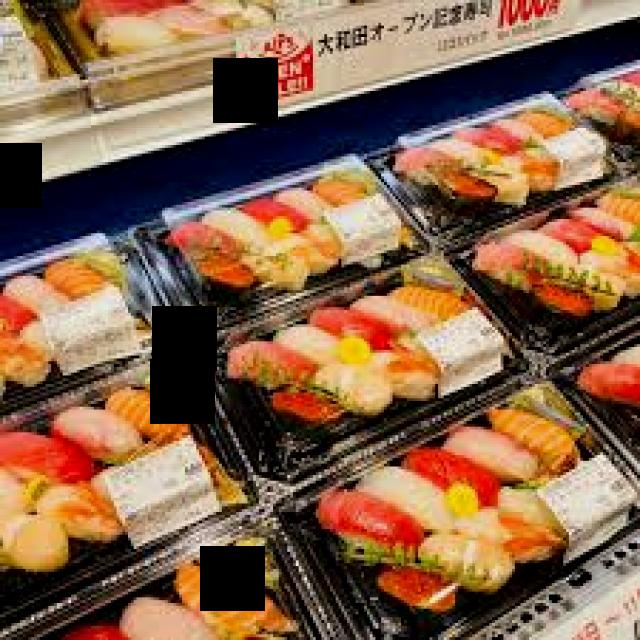sushi: (279, 387, 640, 640), (196, 250, 535, 489), (0, 367, 250, 617), (134, 165, 427, 336), (370, 100, 620, 250), (23, 526, 321, 640), (452, 179, 640, 358), (0, 245, 174, 415)
